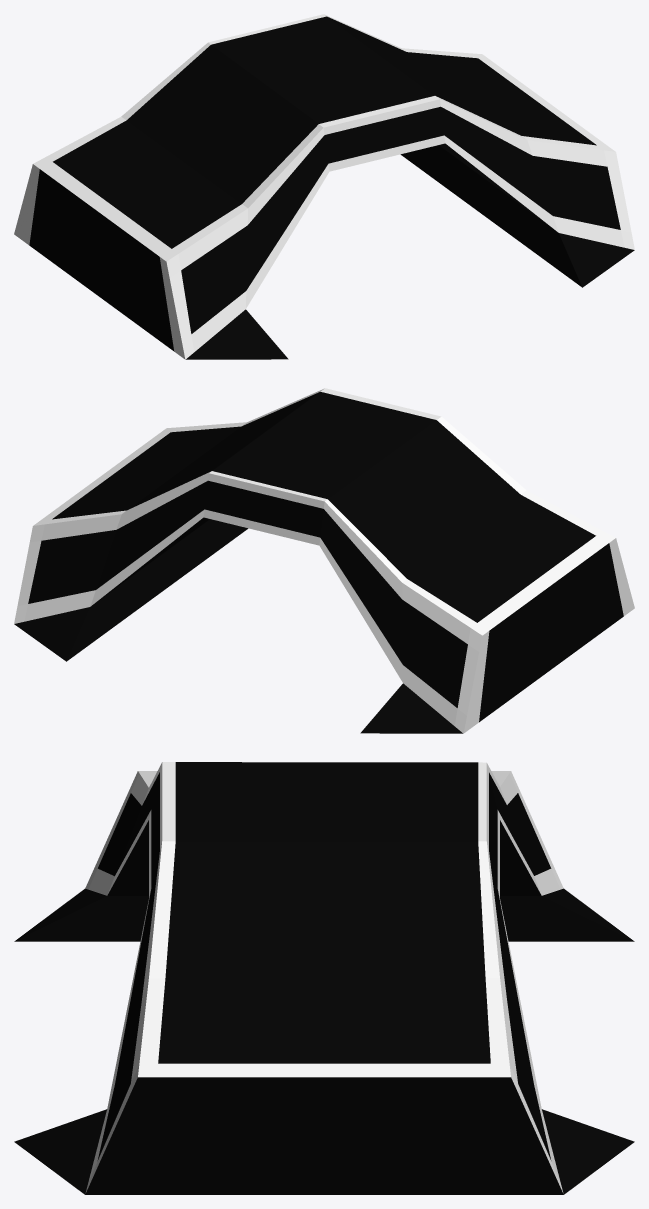
The model's file is Bridge.FBX.
3 views of the same model, one above another, from view 1: azimuth 30°, elevation 25°; view 2: azimuth 150°, elevation 25°; view 3: azimuth 270°, elevation 25° (orthographic). The views are drawn at different scales.
Parts seen in each view (by area): view 1: Line001; view 2: Line001; view 3: Line001.
Part boxes in pixels (x1=…): Line001: x1=14, y1=14, x2=634, y2=359; Line001: x1=14, y1=388, x2=634, y2=733; Line001: x1=14, y1=762, x2=634, y2=1194.
Size of the model in its own units: 335 by 122 by 287.
